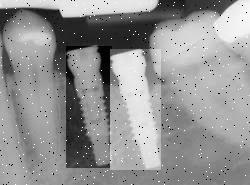BioHorizons: (109, 46, 176, 173), (65, 45, 115, 172)
